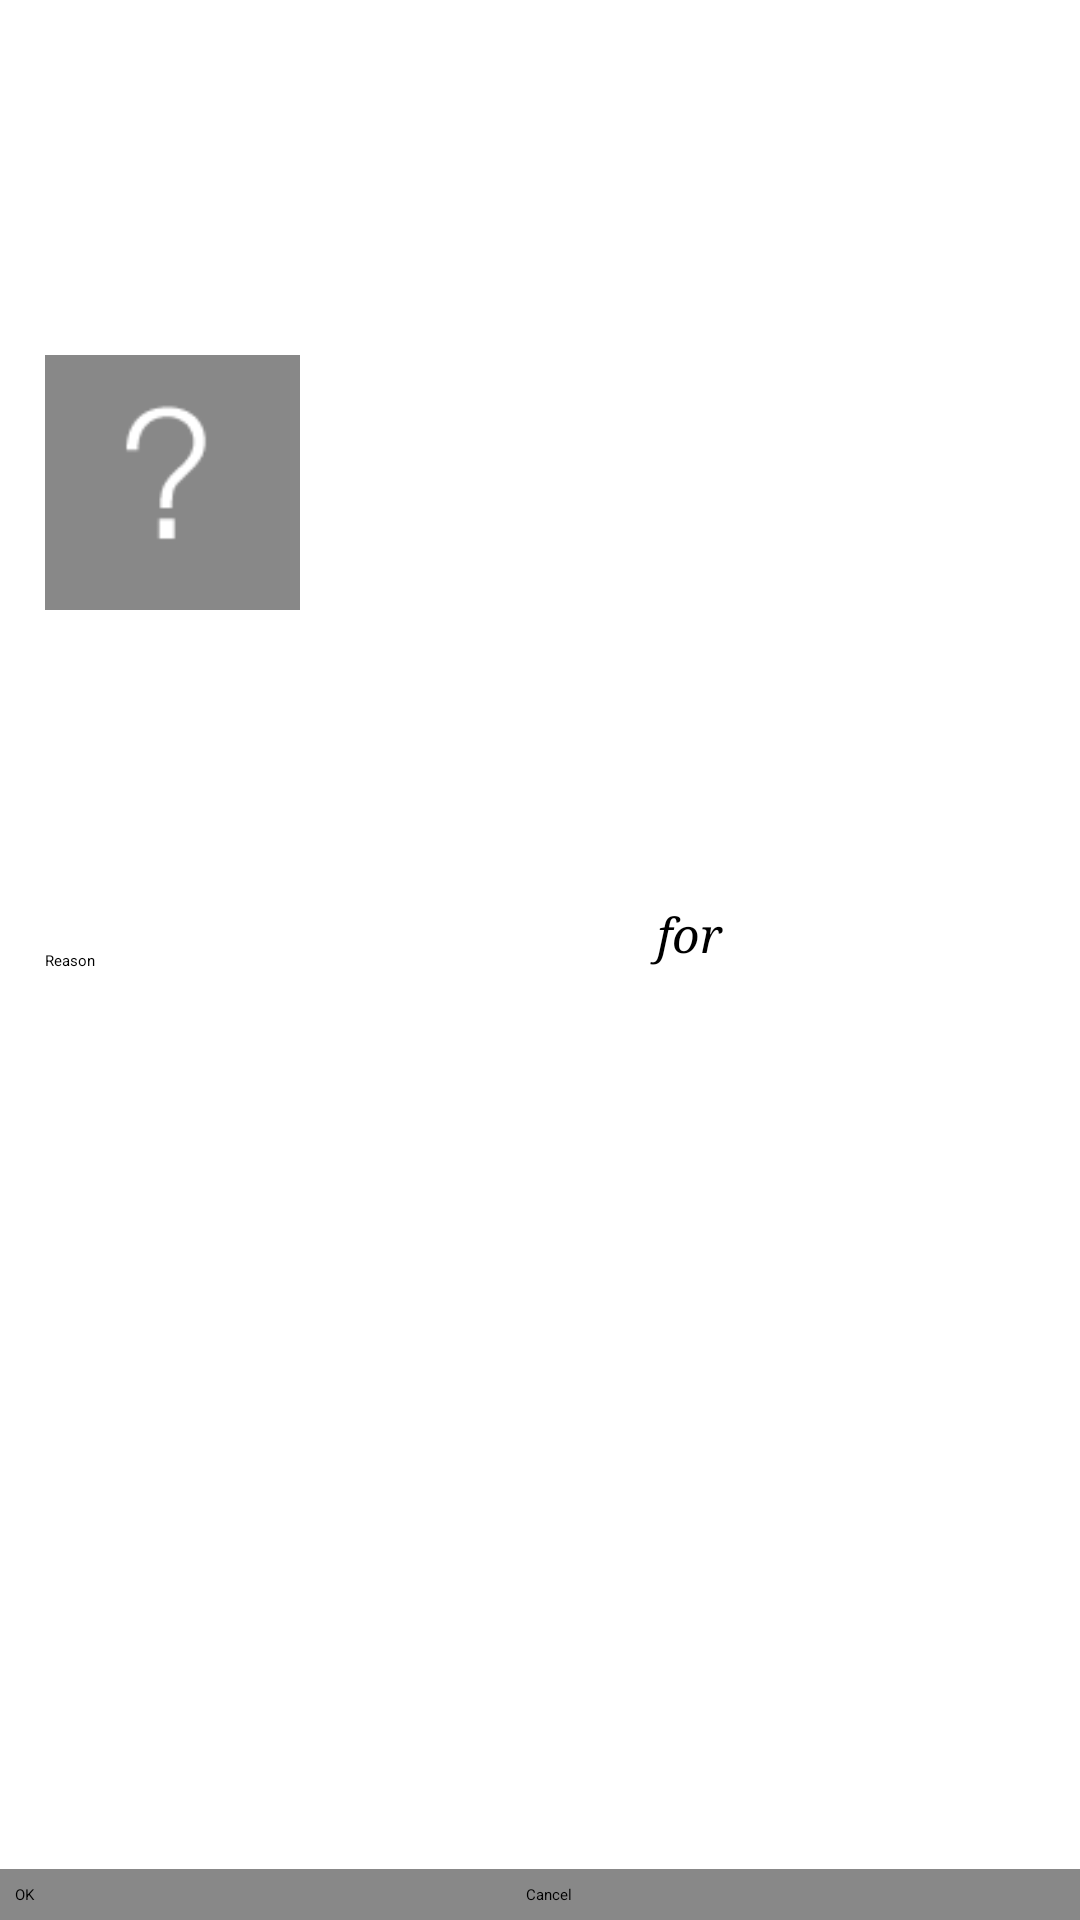

Screen size 1080 × 1920. Icon name, then its box in pixels as (x1, y1, x2, y2):
missing photo: (45, 355, 300, 610)
